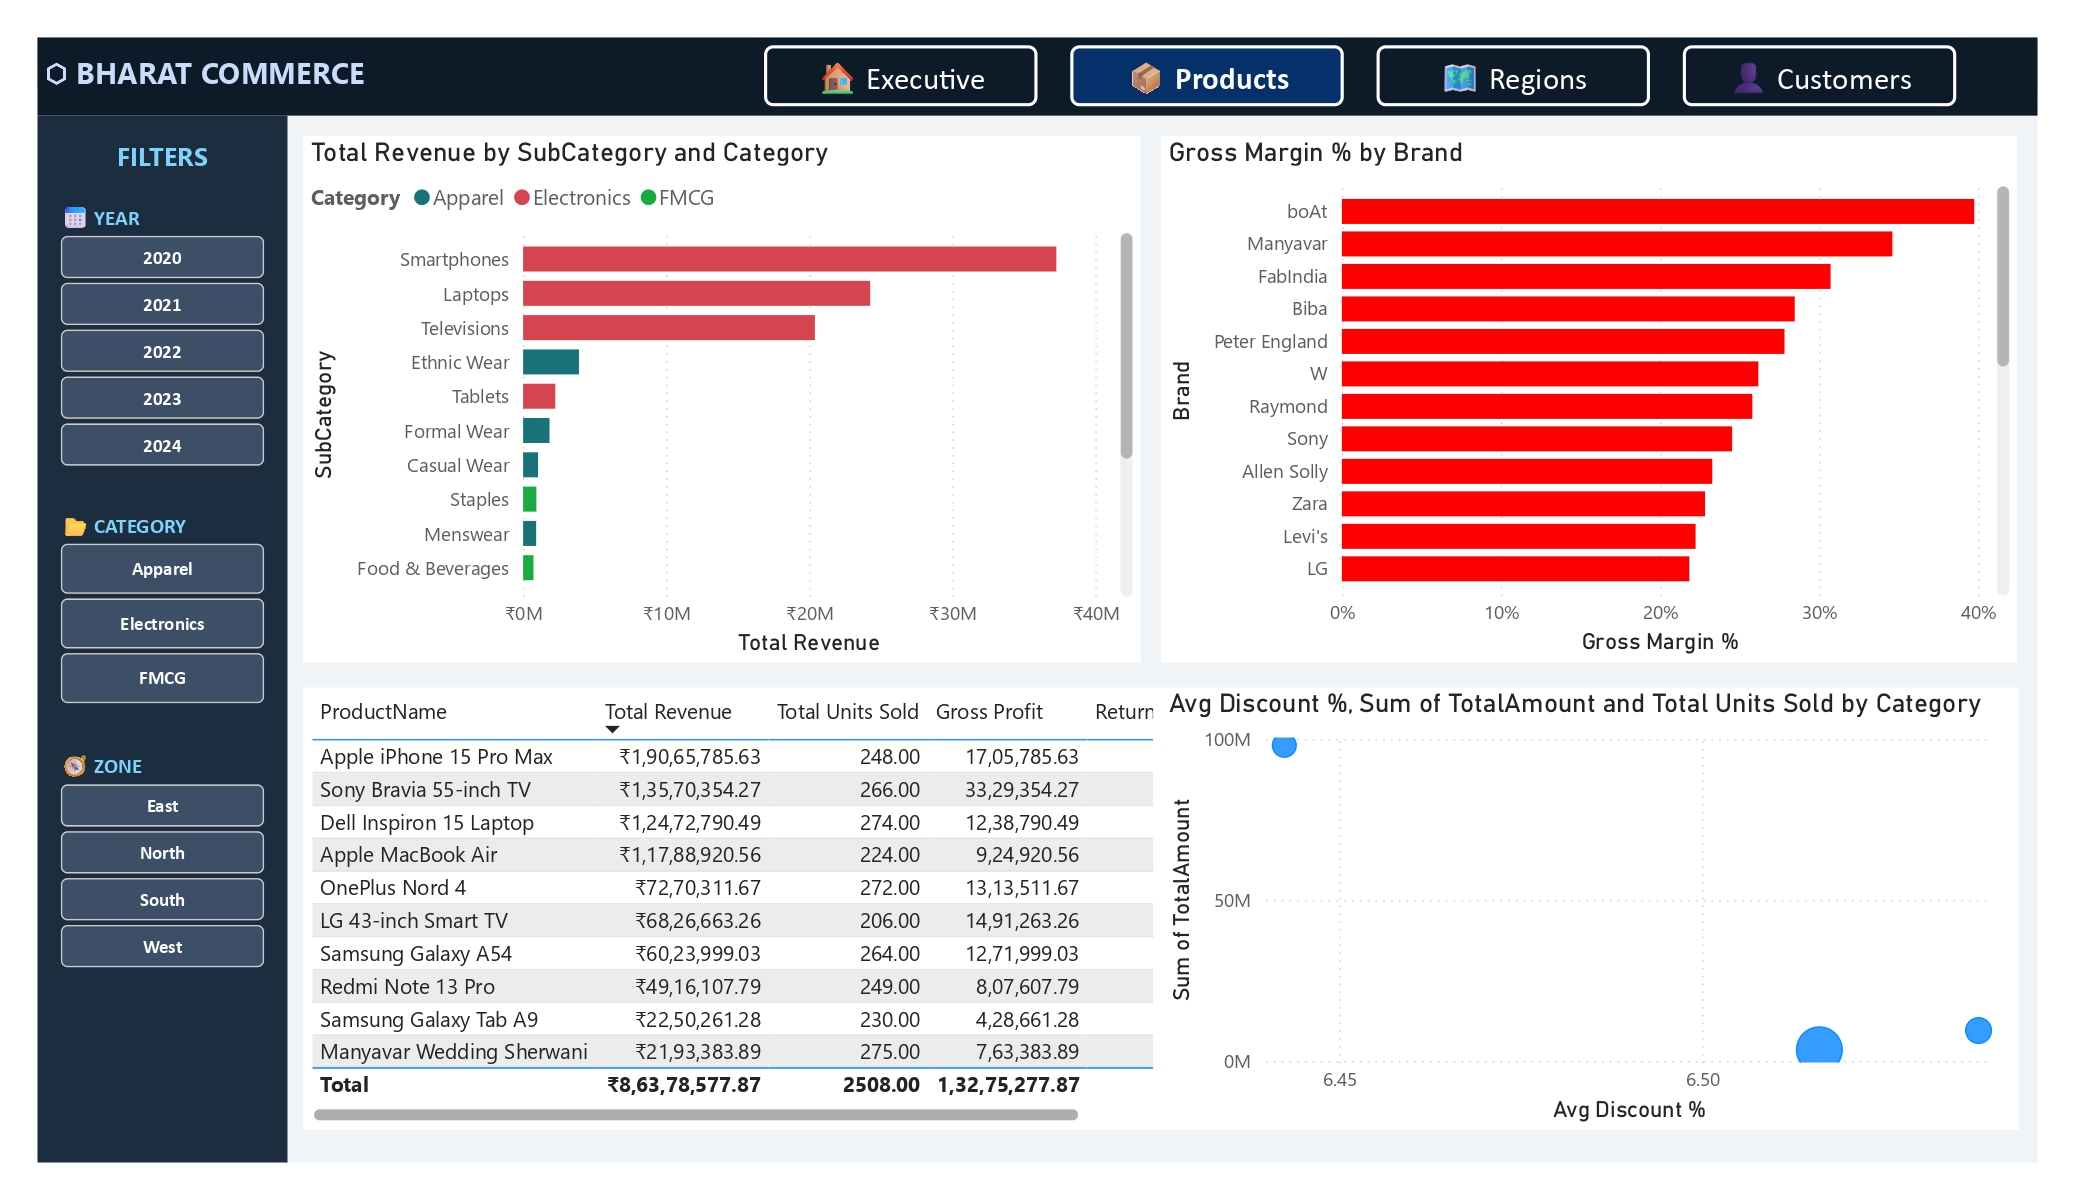

The dashboard page shown, as its layout file describes it:
{"tool":"powerbi","page":{"name":"📦 Products","canvas":[1280,720],"ordinal":1},"visuals":[{"type":"shape","box":[0,0,1280.3,50],"z":0},{"type":"textbox","box":[0,5.5,242.7,40.9],"z":1000},{"type":"shape","box":[0,50,160,670],"z":2000},{"type":"barChart","fields":{"Category":["Products.SubCategory"],"Y":["Measures Table.Total Revenue"],"Series":["Products.Category"]},"box":[170,62.9,535.7,337.1],"z":3000},{"type":"barChart","fields":{"Y":["Measures Table.Gross Margin %"],"Category":["Products.Brand"]},"box":[718.6,62.9,548.6,337.1],"z":4000},{"type":"tableEx","fields":{"Values":["Products.ProductName","Measures Table.Total Revenue","Measures Table.Total Units Sold","Measures Table.Gross Profit","Measures Table.Return Rate %"]},"box":[170,415.7,548.6,282.9],"z":5000},{"type":"scatterChart","fields":{"X":["Measures Table.Avg Discount %"],"Size":["Measures Table.Total Units Sold"],"Y":["Sum(SalesTransactions.TotalAmount)"],"Category":["Products.Category"]},"box":[719,416,549,283],"z":6000},{"type":"textbox","box":[10,60,140,33.2],"z":7000},{"type":"advancedSlicerVisual","title":"📅 YEAR","fields":{"Values":["DimDate.Year"]},"box":[10,105.8,140,173.7],"z":8000},{"type":"advancedSlicerVisual","title":"📂 CATEGORY","fields":{"Values":["Products.Category"]},"box":[10,303.1,140,130],"z":9000},{"type":"advancedSlicerVisual","title":"🧭 ZONE","fields":{"Values":["Regions.Zone"]},"box":[10,456.7,140,145.6],"z":10000},{"type":"actionButton","box":[1052.5,5,175,38.8],"z":11000},{"type":"actionButton","box":[856.7,5,175,38.8],"z":12000},{"type":"actionButton","box":[660.8,5,175,38.8],"z":13000},{"type":"actionButton","box":[465,5,175,38.8],"z":14000}]}

Visuals, with their boxes on the page's 1280x720 design canvas (x1, y1, x2, y2). These are canvas units, not pixel positions in the 2075x1200 screenshot, which may show the page scaled, cropped or inside an application window:
shape: bbox=[0, 0, 1280, 50]
textbox: bbox=[0, 6, 243, 46]
shape: bbox=[0, 50, 160, 720]
barChart - Products.SubCategory x Measures Table.Total Revenue: bbox=[170, 63, 706, 400]
barChart - Measures Table.Gross Margin % x Products.Brand: bbox=[719, 63, 1267, 400]
tableEx - Products.ProductName x Measures Table.Total Revenue: bbox=[170, 416, 719, 699]
scatterChart - Measures Table.Avg Discount % x Measures Table.Total Units Sold: bbox=[719, 416, 1268, 699]
textbox: bbox=[10, 60, 150, 93]
"📅 YEAR" advancedSlicerVisual: bbox=[10, 106, 150, 280]
"📂 CATEGORY" advancedSlicerVisual: bbox=[10, 303, 150, 433]
"🧭 ZONE" advancedSlicerVisual: bbox=[10, 457, 150, 602]
actionButton: bbox=[1052, 5, 1228, 44]
actionButton: bbox=[857, 5, 1032, 44]
actionButton: bbox=[661, 5, 836, 44]
actionButton: bbox=[465, 5, 640, 44]
